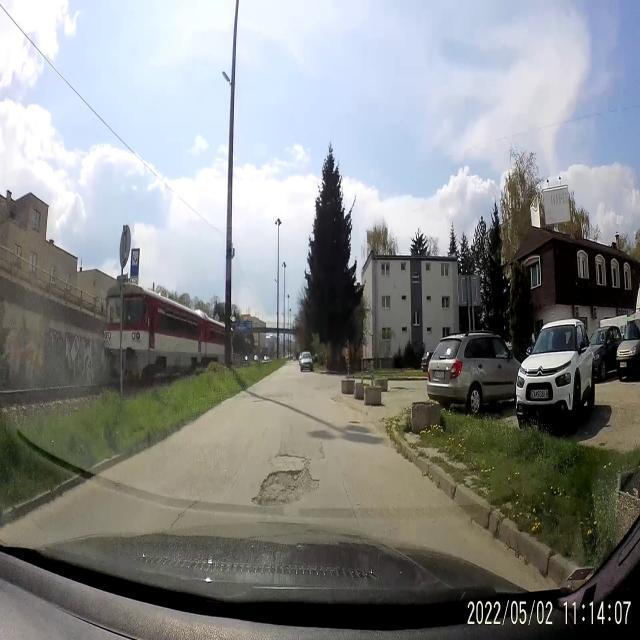Pothole: (250, 462, 318, 511)
